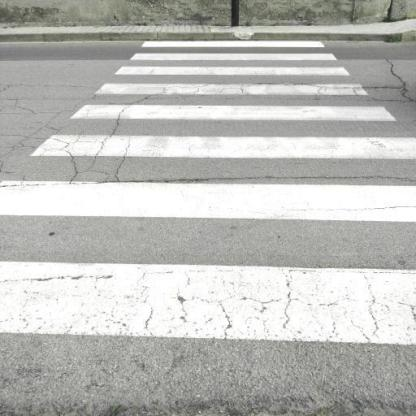crosswalk: (1, 175, 415, 349), (56, 80, 401, 128), (118, 38, 350, 63)
